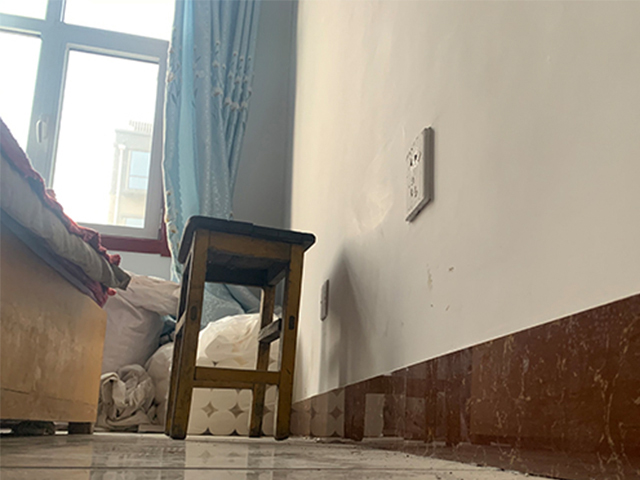bed: (1, 119, 132, 437)
curtain: (168, 2, 260, 315)
stool: (163, 215, 316, 442)
